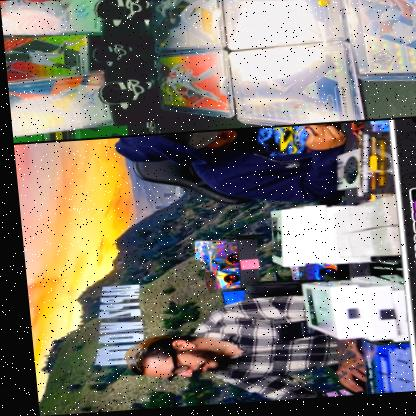streamer: (113, 295, 361, 411), (111, 127, 346, 215)
